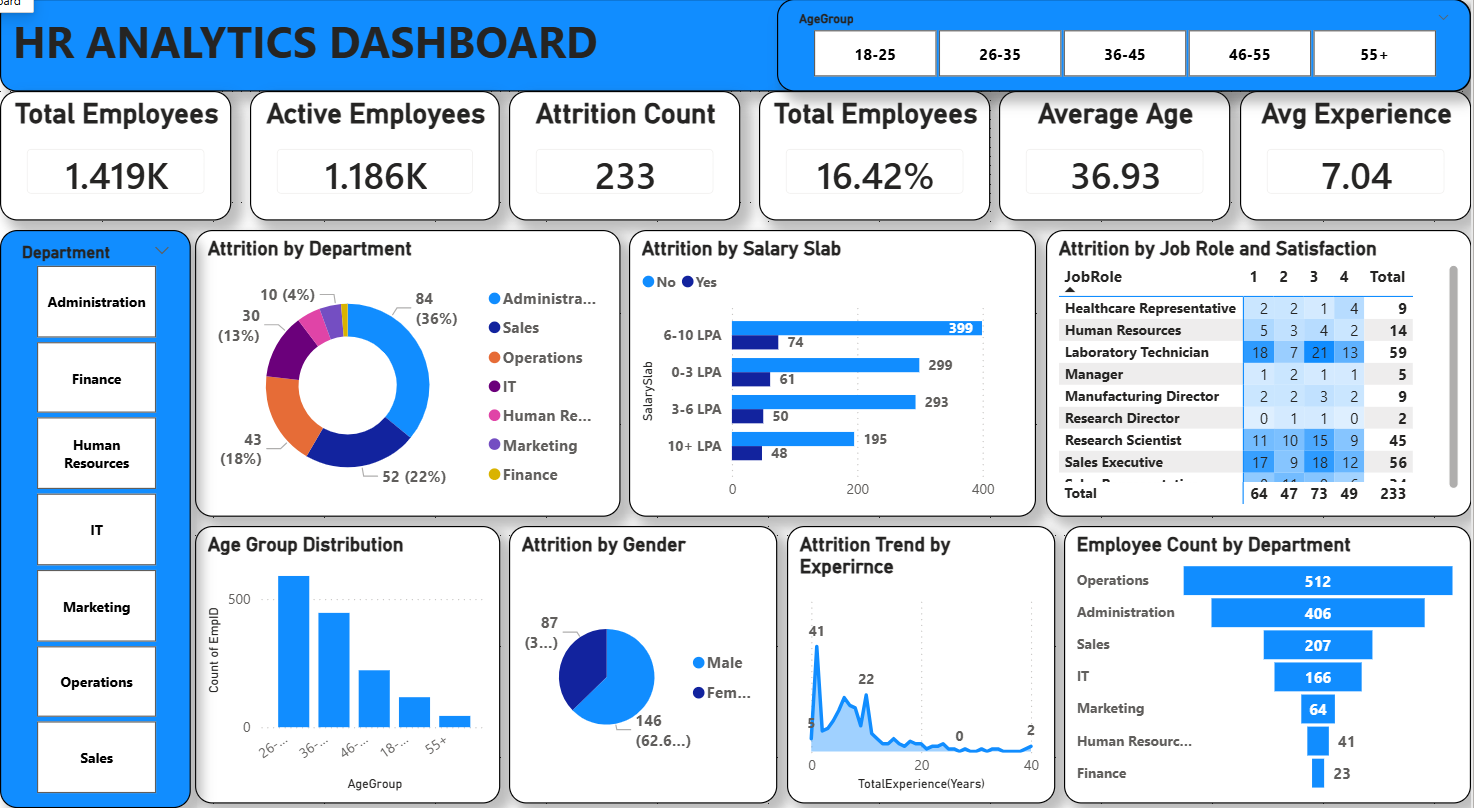

The dashboard page shown, as its layout file describes it:
{"tool":"powerbi","page":{"name":"Page 1","canvas":[1280,720],"ordinal":0},"visuals":[{"type":"textbox","box":[8,16,1272,80],"z":0},{"type":"cardVisual","title":"Total Employees","fields":{"Data":["CountNonNull(Sheet1.EmpID)"]},"box":[8,96,200,112],"z":1000},{"type":"cardVisual","title":"Active Employees","fields":{"Data":["CountNonNull(Sheet1.EmployeeCount)"]},"box":[224,96,216,112],"z":2000},{"type":"cardVisual","title":"Attrition Count","fields":{"Data":["Sum(Sheet1.AttritionCount)"]},"box":[448,96,200,112],"z":3000},{"type":"cardVisual","title":"Total Employees","fields":{"Data":["Sheet1.Attrition Rate %"]},"box":[664,96,200,112],"z":4000},{"type":"cardVisual","title":"Average Age","fields":{"Data":["Avg(Sheet1.Age)"]},"box":[872,96,200,112],"z":5000},{"type":"cardVisual","title":"Avg Experience","fields":{"Data":["Avg(Sheet1.YearsatCompany)"]},"box":[1080,96,200,112],"z":6000},{"type":"donutChart","title":"Attrition by Department","fields":{"Category":["Sheet1.Department"],"Y":["Sum(Sheet1.AttritionCount)"]},"box":[176,216,368,248],"z":7000},{"type":"clusteredBarChart","title":"Attrition by Salary Slab","fields":{"Category":["Sheet1.SalarySlab"],"Y":["CountNonNull(Sheet1.EmpID)"],"Series":["Sheet1.Attrition"]},"box":[552,216,352,248],"z":8000},{"type":"pivotTable","title":"Attrition by Job Role and Satisfaction","fields":{"Rows":["Sheet1.JobRole"],"Columns":["Sheet1.JobSatisfaction"],"Values":["Sum(Sheet1.AttritionCount)"]},"box":[912,216,368,248],"z":9000},{"type":"columnChart","title":" Age Group Distribution","fields":{"Y":["CountNonNull(Sheet1.EmpID)"],"Category":["Sheet1.AgeGroup"]},"box":[176,472,264,240],"z":10000},{"type":"pieChart","title":"Attrition  by Gender","fields":{"Category":["Sheet1.Gender"],"Y":["Sum(Sheet1.AttritionCount)"]},"box":[448,472,232,240],"z":11000},{"type":"areaChart","title":"Attrition Trend by Experirnce","fields":{"Category":["Sheet1.TotalExperience(Years)"],"Y2":["Sum(Sheet1.AttritionCount)"]},"box":[688,472,232,240],"z":12000},{"type":"funnel","title":"Employee Count by Department","fields":{"Category":["Sheet1.Department"],"Y":["CountNonNull(Sheet1.EmpID)"]},"box":[928,472,352,240],"z":13000},{"type":"slicer","fields":{"Values":["Sheet1.Department"]},"box":[8,216,165,500],"z":14000},{"type":"slicer","title":"Age Group","fields":{"Values":["Sheet1.AgeGroup"]},"box":[680,16,600,80],"z":15000}]}

Visuals, with their boxes in screenshot pixels (x1, y1, x2, y2), scaled from the page's 1280x720 canvas onto the 1477x808 screenshot:
textbox: (9, 18, 1476, 108)
"Total Employees" cardVisual: (9, 108, 240, 233)
"Active Employees" cardVisual: (258, 108, 508, 233)
"Attrition Count" cardVisual: (517, 108, 748, 233)
"Total Employees" cardVisual: (766, 108, 997, 233)
"Average Age" cardVisual: (1006, 108, 1237, 233)
"Avg Experience" cardVisual: (1246, 108, 1476, 233)
"Attrition by Department" donutChart: (203, 242, 628, 521)
"Attrition by Salary Slab" clusteredBarChart: (637, 242, 1043, 521)
"Attrition by Job Role and Satisfaction" pivotTable: (1052, 242, 1476, 521)
" Age Group Distribution" columnChart: (203, 530, 508, 799)
"Attrition  by Gender" pieChart: (517, 530, 785, 799)
"Attrition Trend by Experirnce" areaChart: (794, 530, 1062, 799)
"Employee Count by Department" funnel: (1071, 530, 1476, 799)
slicer - Sheet1.Department: (9, 242, 200, 804)
"Age Group" slicer: (785, 18, 1476, 108)
